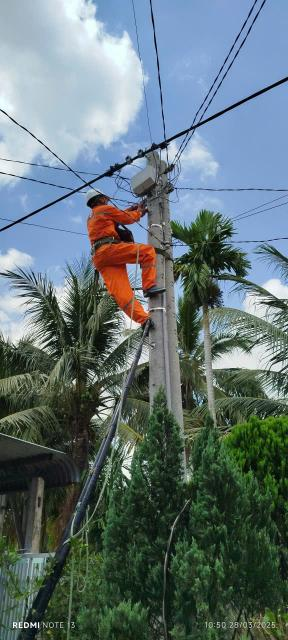gloves: (134, 202, 152, 217), (125, 203, 143, 213)
harness: (89, 233, 134, 254)
helmet: (82, 187, 112, 208)
shoes: (137, 281, 169, 298), (135, 317, 157, 331)
